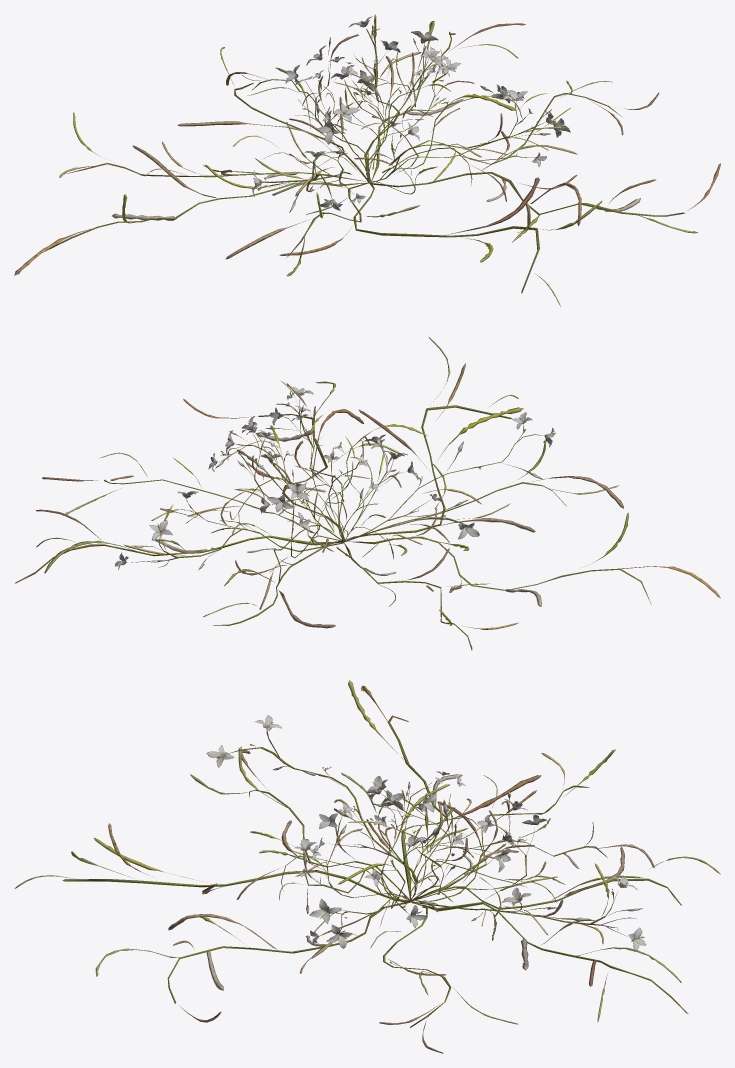
File: flower_heliophila_single_1.fbx
3 views of the same model, one above another, from view 1: azimuth 30°, elevation 25°; view 2: azimuth 150°, elevation 25°; view 3: azimuth 270°, elevation 25° (orthographic). The views are drawn at different scales.
Parts seen in each view (by area): view 1: flower_heliophila_single_1; view 2: flower_heliophila_single_1; view 3: flower_heliophila_single_1.
Boxes of the visible parts, box(x1,y1,x2,y2) form: flower_heliophila_single_1: box(14, 14, 720, 306); flower_heliophila_single_1: box(14, 337, 720, 650); flower_heliophila_single_1: box(14, 680, 720, 1053).
Bounding box in the file's own units: 1.66 × 0.3174 × 1.42.
Materials: 1 (1 with a texture image).
